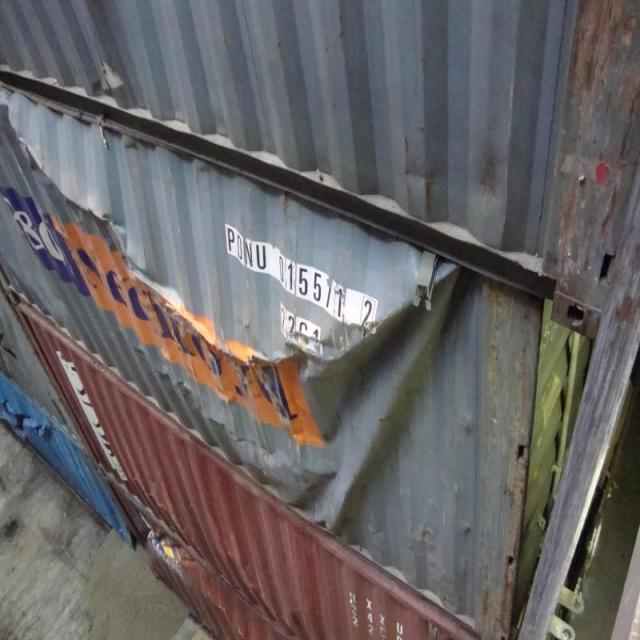dent: (2, 86, 468, 539)
